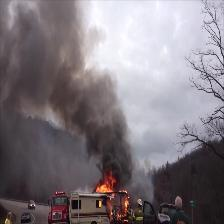fire: (96, 182, 113, 192)
smoke: (15, 20, 88, 97), (77, 104, 123, 146), (101, 150, 134, 172)
